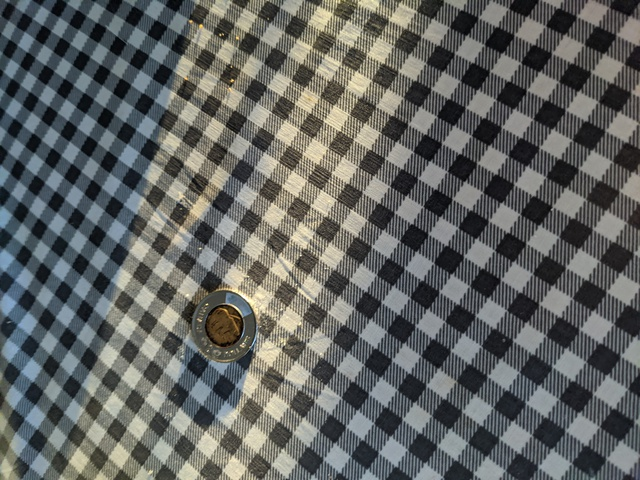twonie: (183, 275, 259, 361)
